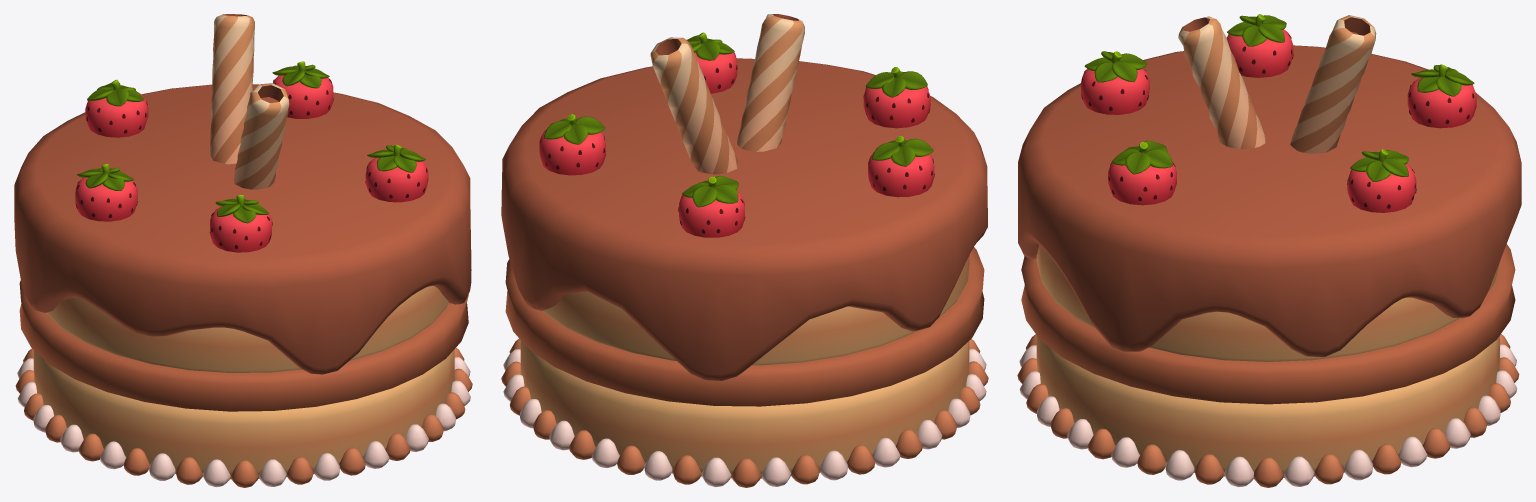
File: Cake_Chocolate_V3_00.fbx
3 renders of one model, left to right at view 1: azimuth 30°, elevation 25°; view 2: azimuth 150°, elevation 25°; view 3: azimuth 270°, elevation 25°, orthographic. The views are drawn at different scales.
Parts seen in each view (by area): view 1: Cake_Chocolate_V3_00; view 2: Cake_Chocolate_V3_00; view 3: Cake_Chocolate_V3_00.
Part boxes in pixels (x1,y1,x2,y2): Cake_Chocolate_V3_00: [14, 14, 472, 487]; Cake_Chocolate_V3_00: [501, 14, 988, 487]; Cake_Chocolate_V3_00: [1017, 14, 1521, 487].
Size of the model in its own units: 65.77 by 55.06 by 65.84.
